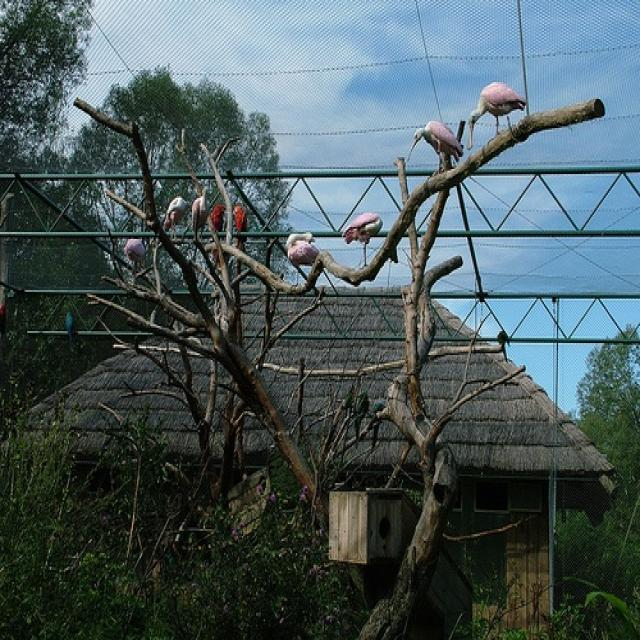bird: (468, 84, 528, 150), (406, 119, 462, 176), (342, 210, 381, 268), (285, 232, 319, 289), (190, 186, 212, 239), (162, 198, 190, 237), (124, 239, 145, 276)
